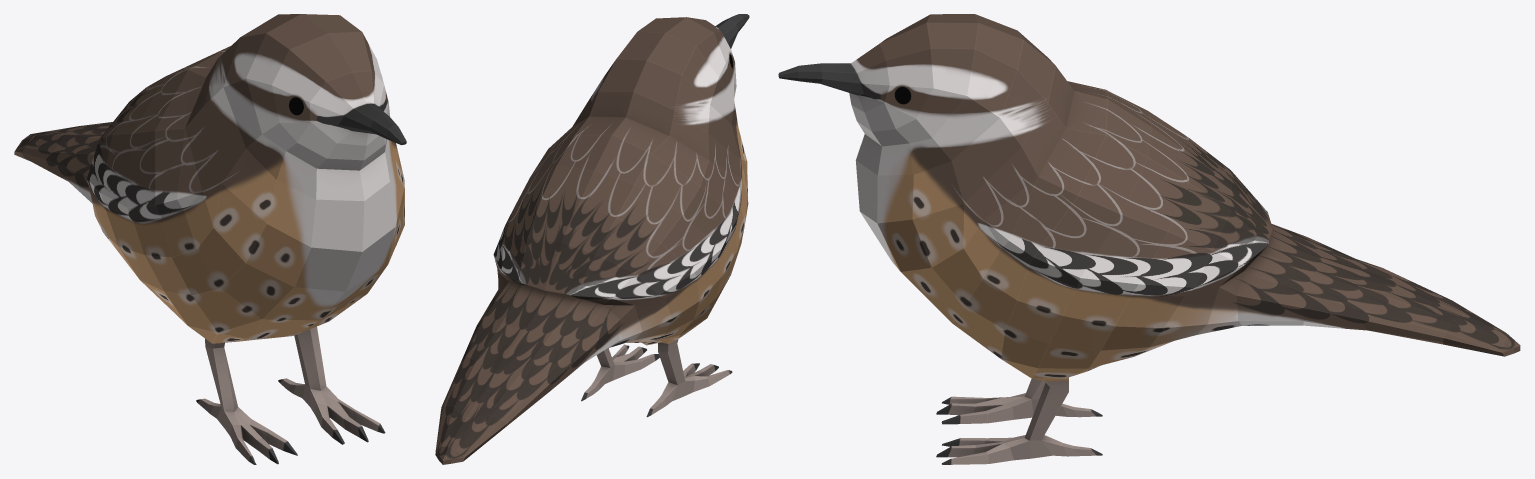
Rendered from bird.glb.
3 renders of one model, left to right at view 1: azimuth 30°, elevation 25°; view 2: azimuth 150°, elevation 25°; view 3: azimuth 270°, elevation 25°, orthographic. The views are drawn at different scales.
Parts seen in each view (by area): view 1: node-0; view 2: node-0; view 3: node-0.
Boxes of the visible parts, bbox=[...] form: node-0: bbox=[14, 14, 406, 464]; node-0: bbox=[435, 14, 749, 464]; node-0: bbox=[778, 14, 1520, 464].
Bounding box in the file's own units: 0.6622 × 1.1 × 1.78.
Materials: 1 (1 with a texture image).
